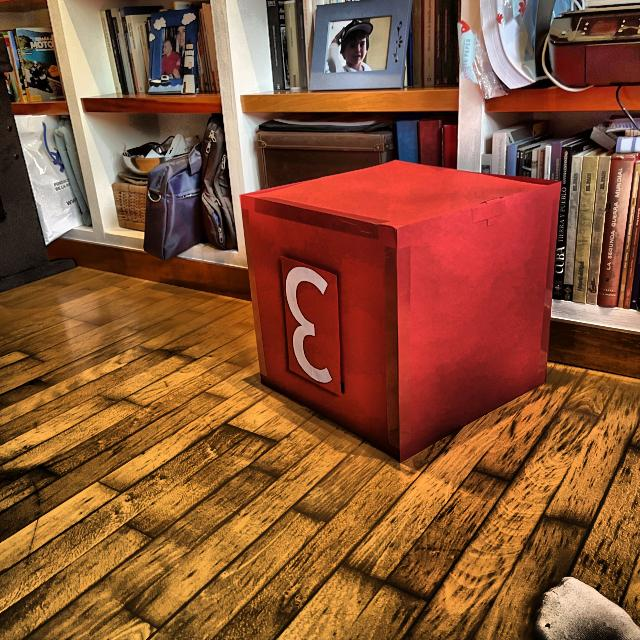red box: (238, 154, 559, 462)
three: (284, 261, 339, 387)
